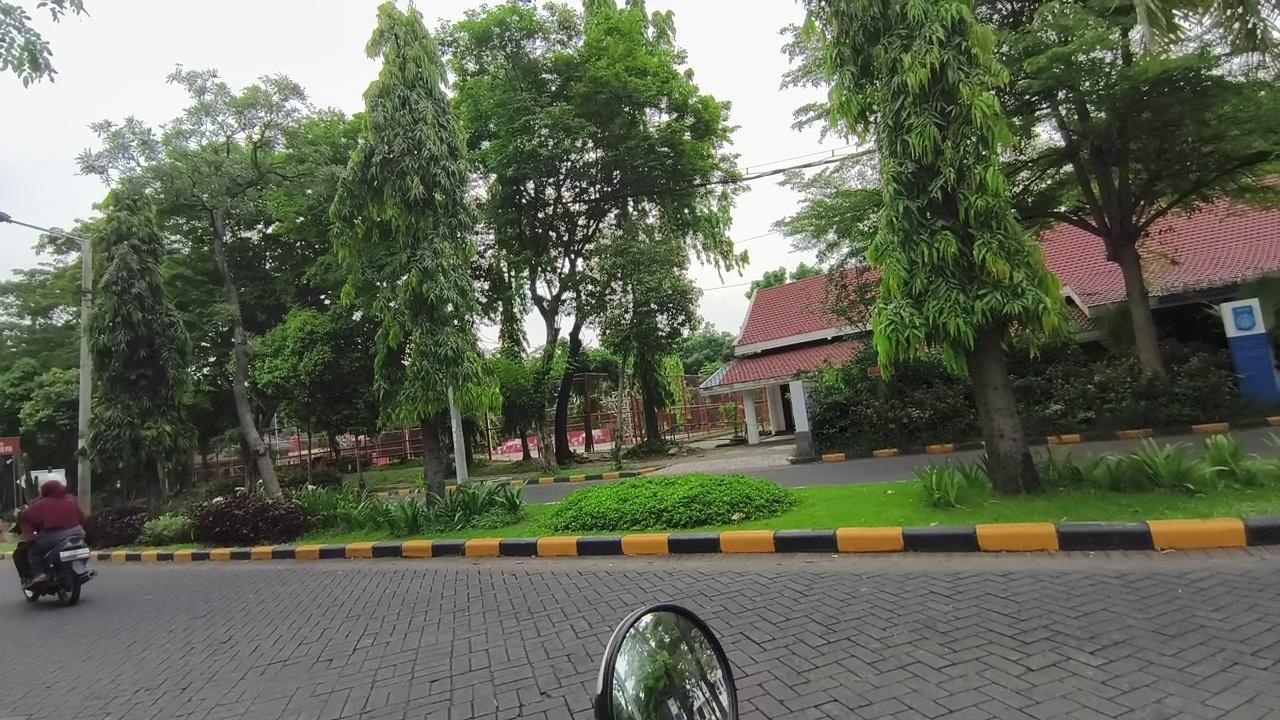Helmet: (14, 478, 85, 585)
Motor: (23, 536, 95, 605)
